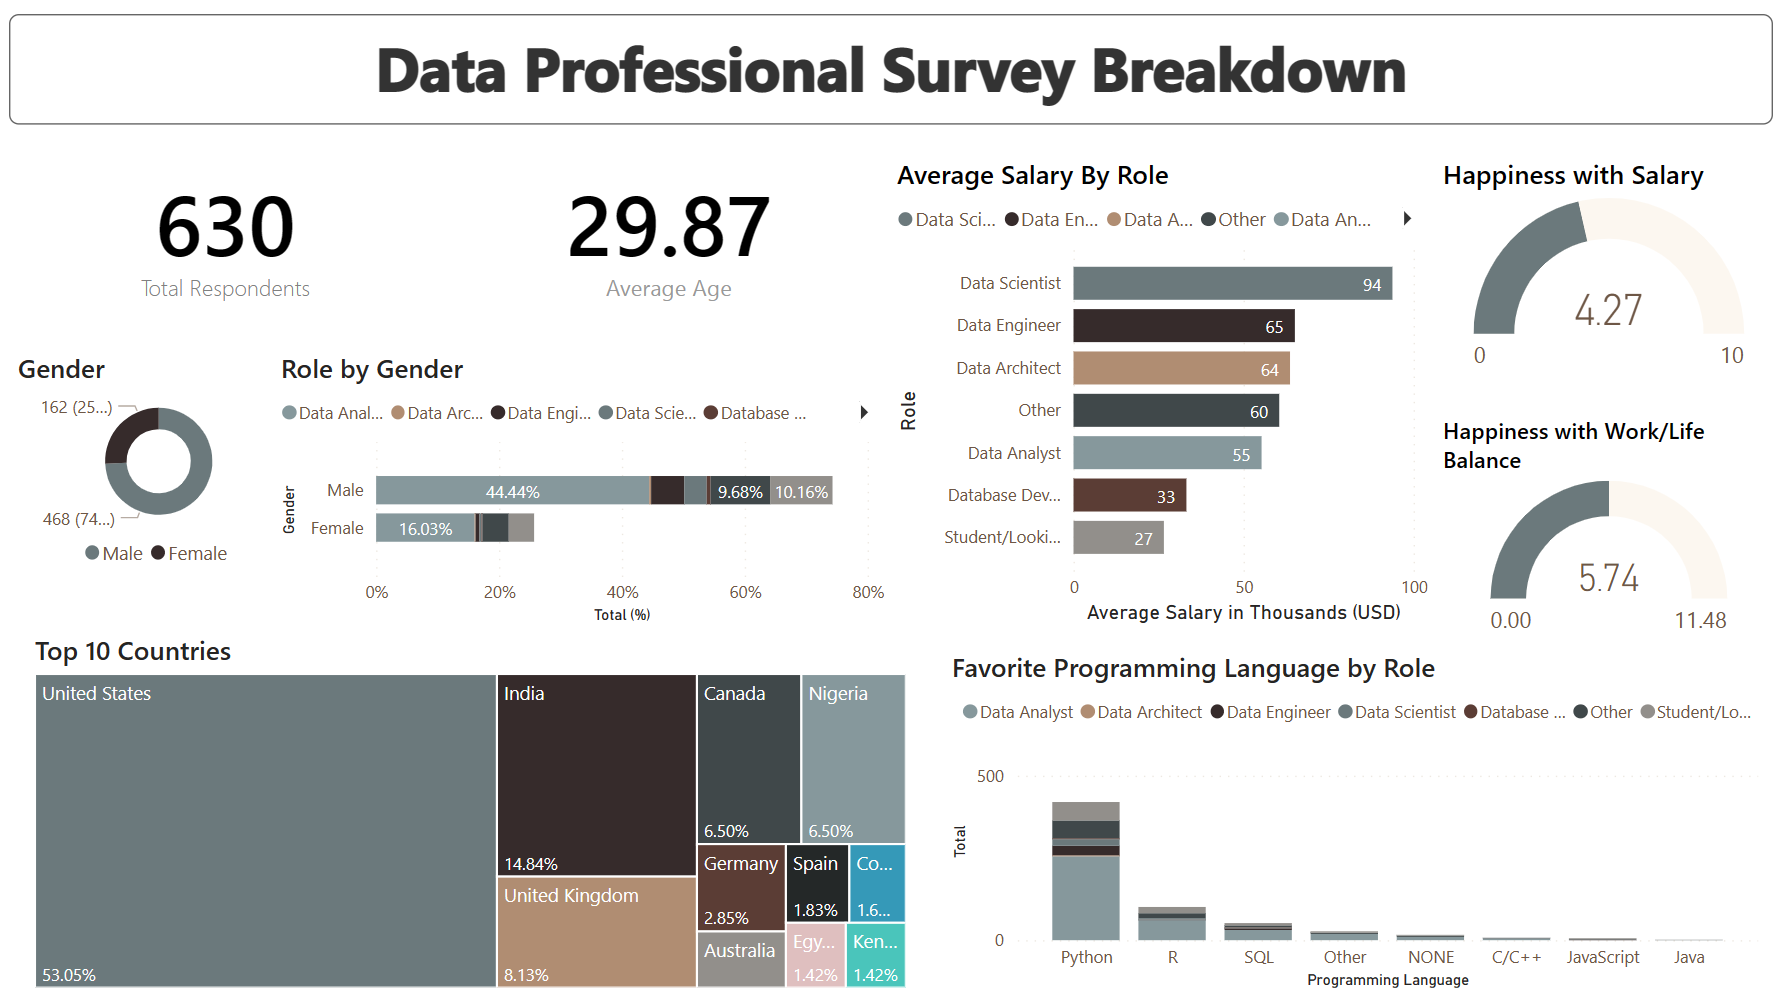

This screenshot's page, from the dashboard's own definition file:
{"tool":"powerbi","page":{"name":"Page 1","canvas":[1280,720],"ordinal":0},"visuals":[{"type":"textbox","box":[13.4,19.6,1260.4,79.5],"z":0},{"type":"card","fields":{"Values":["CountNonNull(Data Professional Survey (2).Unique ID)"]},"box":[77,121,182.2,112.5],"z":1000},{"type":"card","fields":{"Values":["Avg(Data Professional Survey (2).Q10 - Current Age)"]},"box":[399.8,121,169.9,112.5],"z":2000},{"type":"barChart","title":"Average Salary By Role","fields":{"Category":["Data Professional Survey (2).Q1 - Which Title Best Fits your Current Role?.1"],"Y":["Avg(Data Professional Survey (2).Average Salary)"],"Series":["Data Professional Survey (2).Q1 - Which Title Best Fits your Current Role?.1"]},"box":[643.1,121,388.8,338.6],"z":3000},{"type":"columnChart","title":"Favorite Programming Language by Role","fields":{"Category":["Data Professional Survey (2).Q5 - Favorite Programming Language.1"],"Y":["CountNonNull(Data Professional Survey (2).Q5 - Favorite Programming Language.1)"],"Series":["Data Professional Survey (2).Q1 - Which Title Best Fits your Current Role?.1"]},"box":[682.2,473.1,585.6,247],"z":4000},{"type":"treemap","title":"Top 10 Countries","fields":{"Group":["Data Professional Survey (2).Countries(Combined)"],"Values":["CountNonNull(Data Professional Survey (2).Countries(Combined))"]},"box":[26.9,460.8,632.1,259.2],"z":6000},{"type":"gauge","title":"Happiness with Salary","fields":{"MinValue":["Min(Data Professional Survey (2).Q6 - How Happy are you in your Current Position with the following? (Salary))"],"Y":["Avg(Data Professional Survey (2).Q6 - How Happy are you in your Current Position with the following? (Salary))"],"MaxValue":["Max(Data Professional Survey (2).Q6 - How Happy are you in your Current Position with the following? (Salary))1"]},"box":[1033,121,247,162.6],"z":7000},{"type":"gauge","title":"Happiness with Work/Life Balance","fields":{"Y":["Avg(Data Professional Survey (2).Q6 - How Happy are you in your Current Position with the following? (Work/Life Balance)"]},"box":[1033,305.6,247,167.5],"z":8000},{"type":"donutChart","title":"Gender","fields":{"Category":["Data Professional Survey (2).Q9 - Male/Female?"],"Y":["CountNonNull(Data Professional Survey (2).Q9 - Male/Female?)"]},"box":[14.7,259.2,211.5,163.8],"z":9000},{"type":"barChart","title":"Role by Gender","fields":{"Category":["Data Professional Survey (2).Q9 - Male/Female?"],"Series":["Data Professional Survey (2).Q1 - Which Title Best Fits your Current Role?.1"],"Y":["CountNonNull(Data Professional Survey (2).Unique ID)"]},"box":[202.9,259.2,441.3,200.5],"z":10000}]}

Visuals, with their boxes in screenshot pixels (x1, y1, x2, y2), scaled from the page's 1280x720 canvas onto the 1777x993 screenshot:
textbox: select_region(19, 27, 1768, 137)
card - CountNonNull(Data Professional Survey (2).Unique ID): select_region(107, 167, 360, 322)
card - Avg(Data Professional Survey (2).Q10 - Current Age): select_region(555, 167, 791, 322)
"Average Salary By Role" barChart: select_region(893, 167, 1433, 634)
"Favorite Programming Language by Role" columnChart: select_region(947, 652, 1760, 992)
"Top 10 Countries" treemap: select_region(37, 636, 915, 992)
"Happiness with Salary" gauge: select_region(1434, 167, 1776, 391)
"Happiness with Work/Life Balance" gauge: select_region(1434, 421, 1776, 652)
"Gender" donutChart: select_region(20, 357, 314, 583)
"Role by Gender" barChart: select_region(282, 357, 894, 634)
